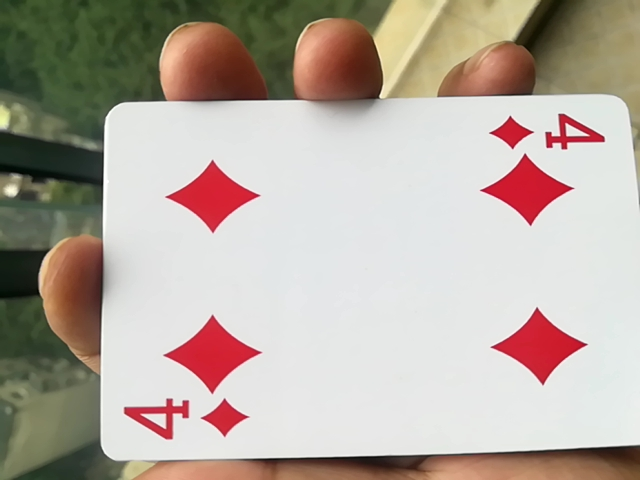fk 4: (84, 96, 636, 472)
